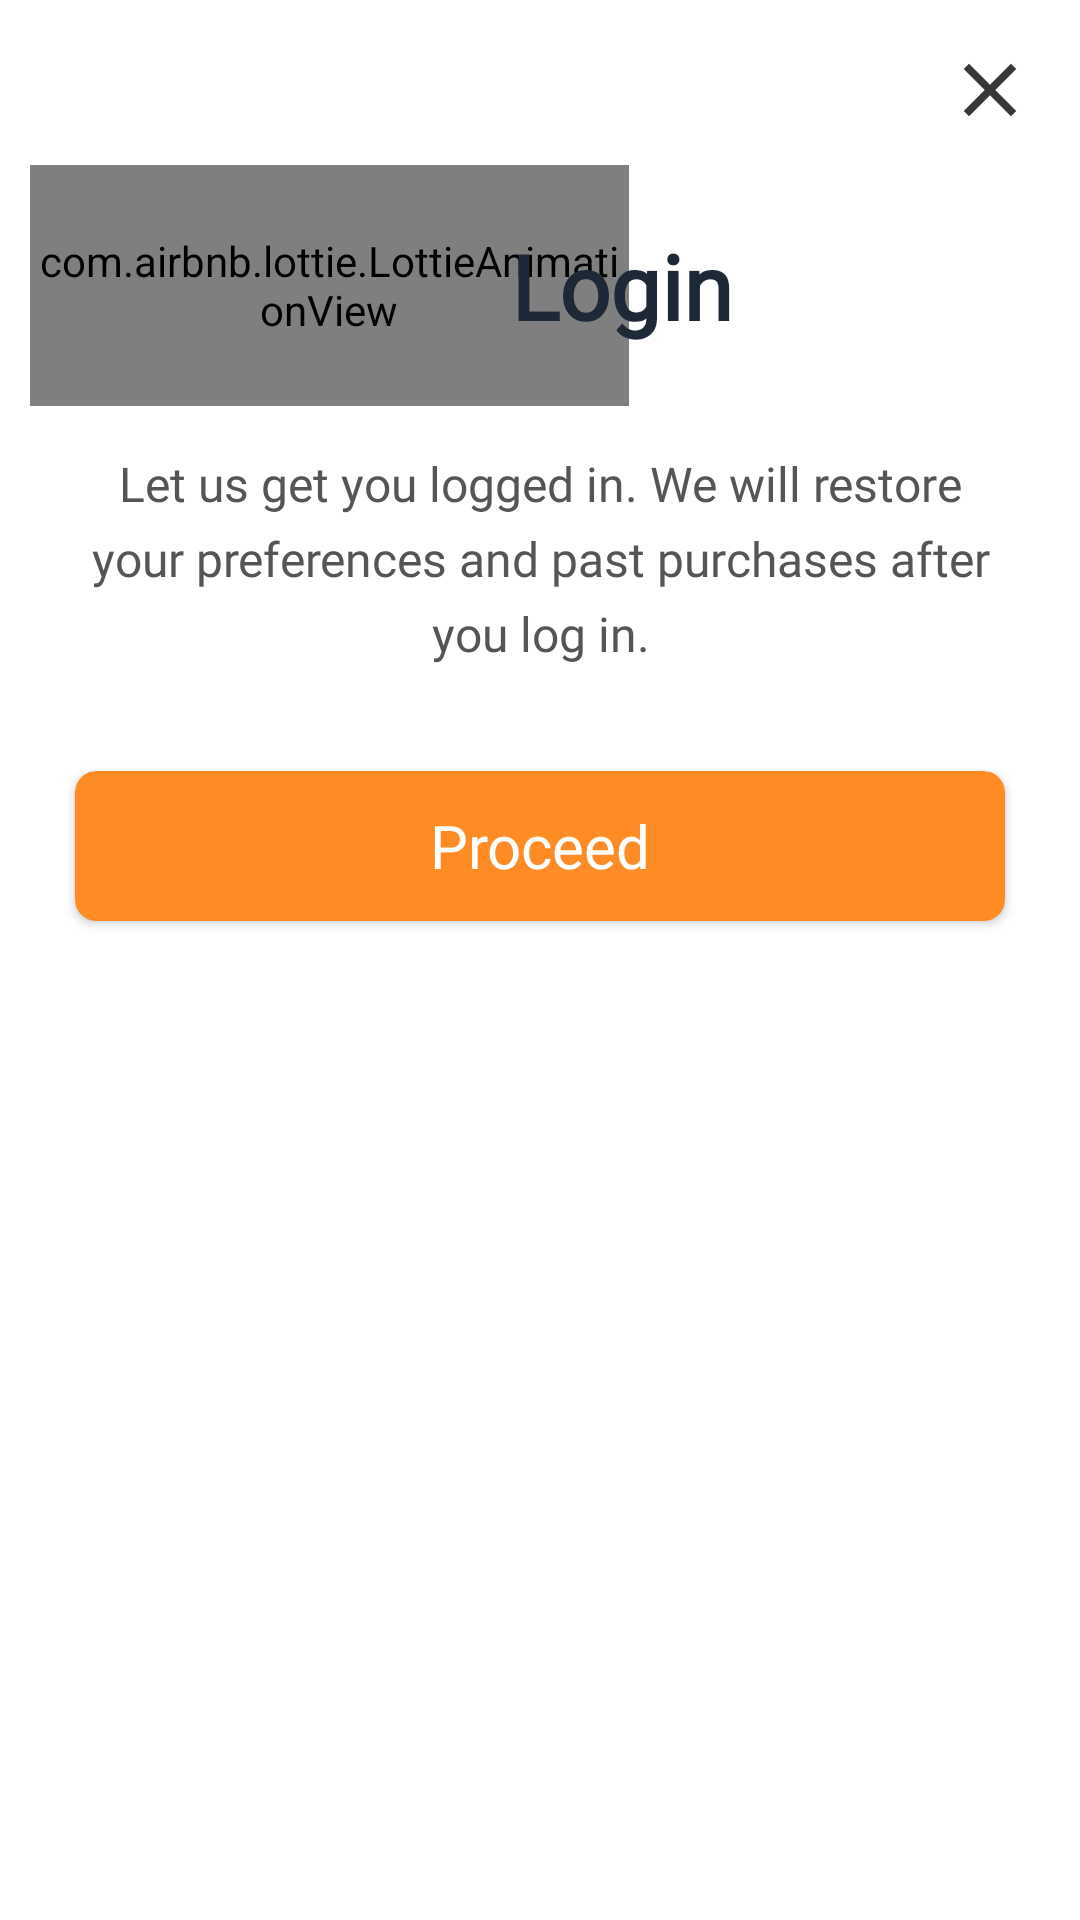

Where to tap for icons on this 1080x1920 app screen, as point (x, y):
close: point (990, 90)
